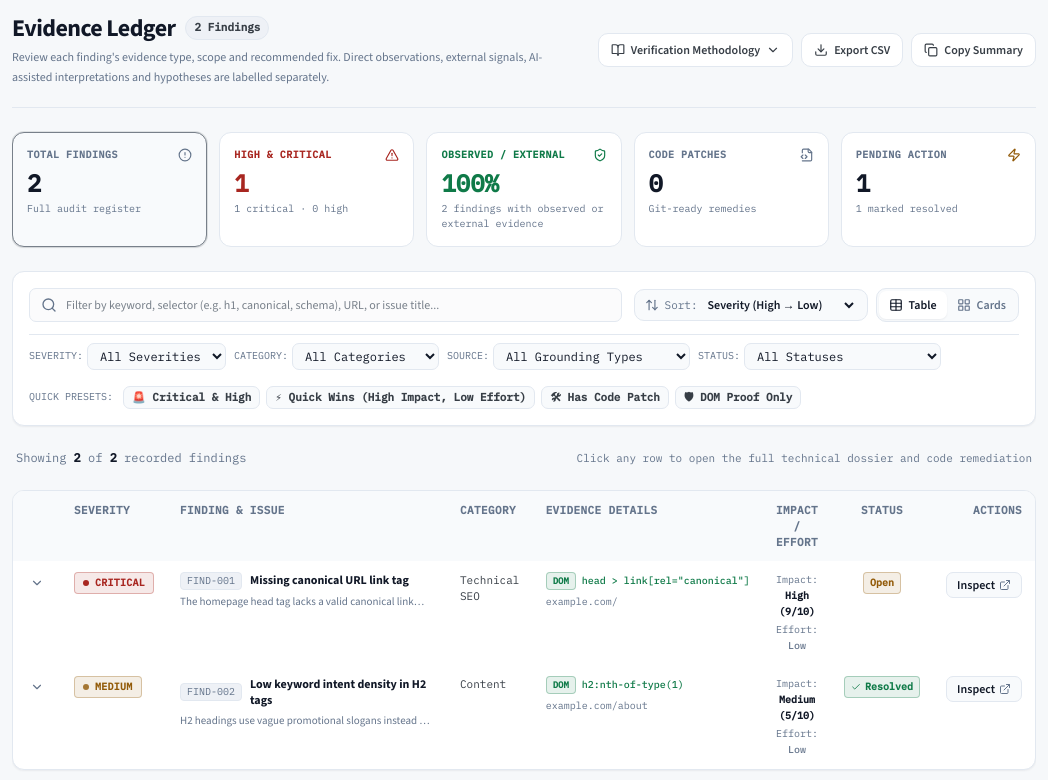
Findings (Evidence Ledger) › filters findings by search term
Replace the text in the field with placeholder "Filter by keyword" with "canonical" at (325, 304), box [29,288,622,322]
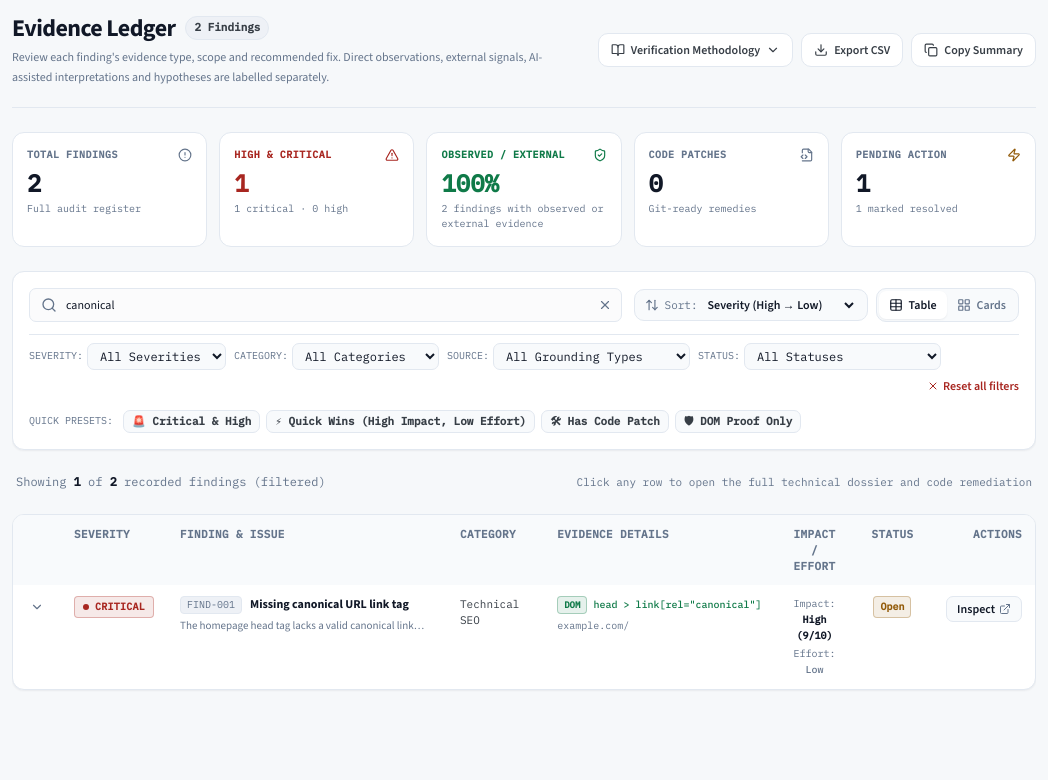
Check: the heading "Missing canonical URL link tag" is shown, box [250,596,409,613]
Check: the heading "Low keyword intent density in H2 tags" is gone
